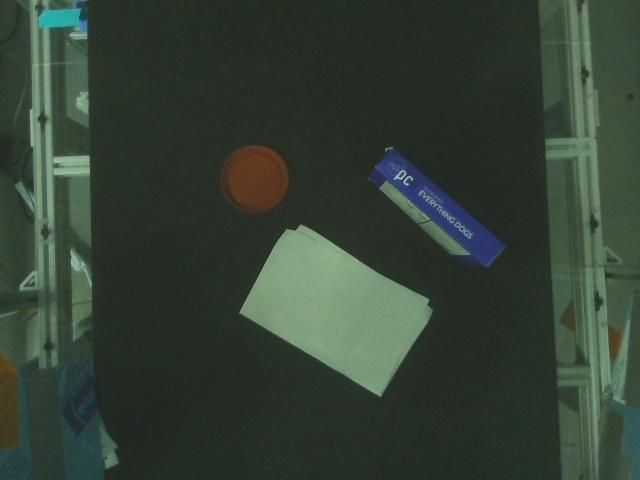cardboard: (363, 142, 511, 275)
paper: (234, 221, 435, 400)
plastic: (217, 142, 293, 217)
